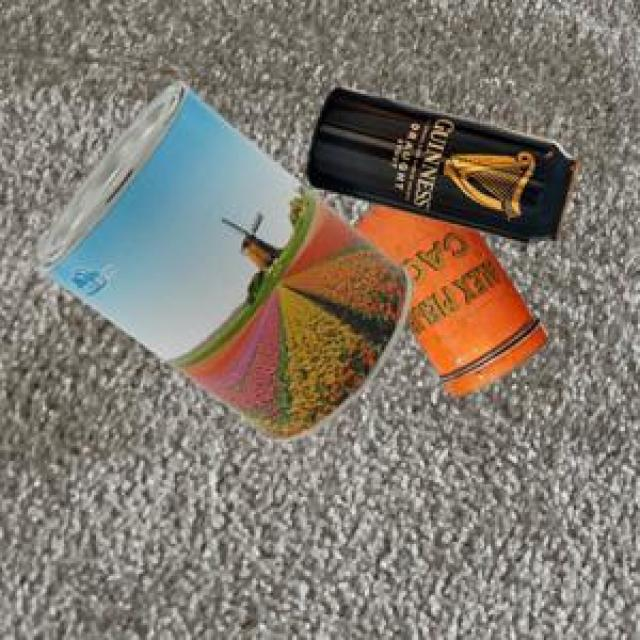logam: (31, 78, 409, 438), (304, 84, 575, 240), (349, 202, 545, 394)
